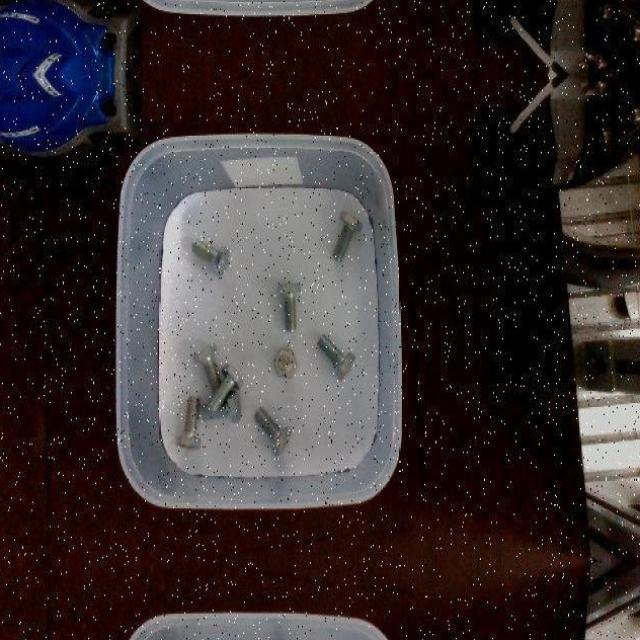screw: (254, 404, 293, 455), (318, 333, 356, 382), (210, 364, 244, 414), (333, 210, 364, 262), (175, 395, 202, 449), (192, 239, 231, 275), (277, 280, 301, 332), (273, 348, 298, 378)
